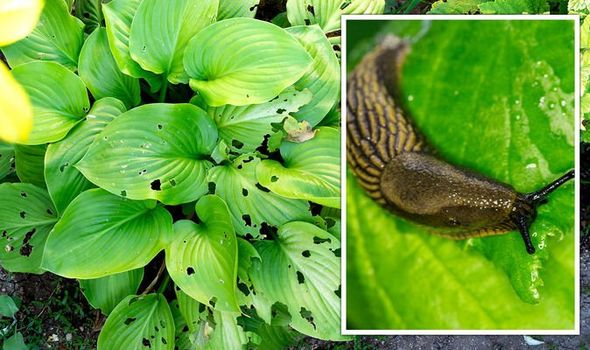slug: (348, 36, 575, 254)
